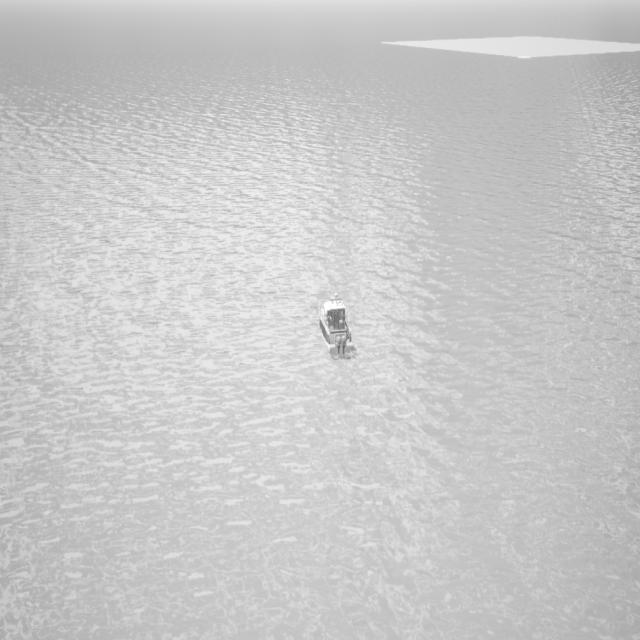ship: (318, 294, 355, 359)
